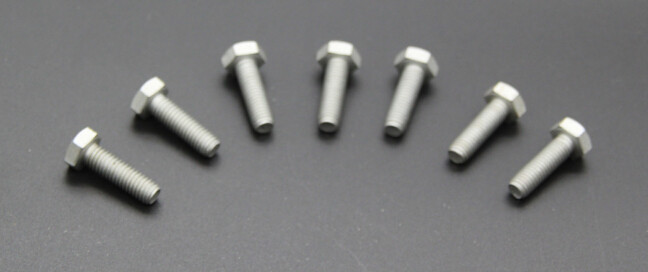screw: (64, 126, 161, 206), (130, 77, 222, 160), (508, 117, 593, 200), (447, 81, 529, 165), (221, 40, 274, 134), (384, 47, 438, 137), (317, 40, 361, 133)
